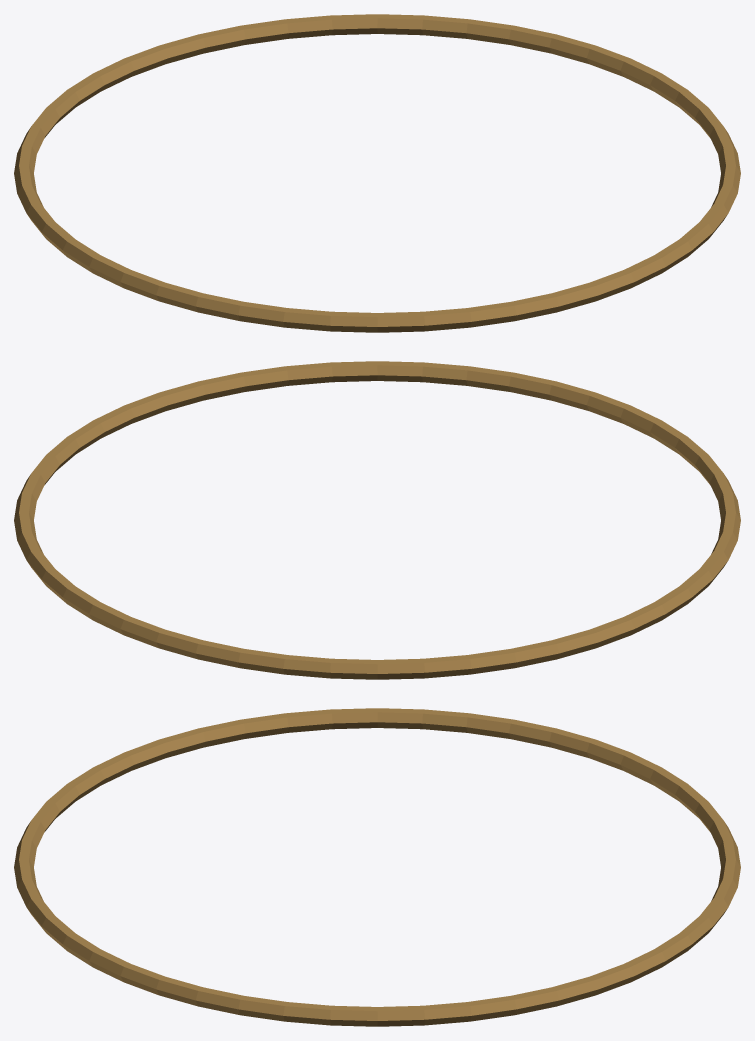
File: ChukoRing.obj
3 views of the same model, one above another, from view 1: azimuth 30°, elevation 25°; view 2: azimuth 150°, elevation 25°; view 3: azimuth 270°, elevation 25° (orthographic).
Visible parts, largest first — view 1: ChukoRing; view 2: ChukoRing; view 3: ChukoRing.
Boxes of the visible parts, left/top/right/bottom form: ChukoRing: left=14, top=14, right=740, bottom=332; ChukoRing: left=14, top=361, right=740, bottom=679; ChukoRing: left=14, top=708, right=740, bottom=1026.
Size of the model in its own units: 3.29 by 0.078 by 3.29.
